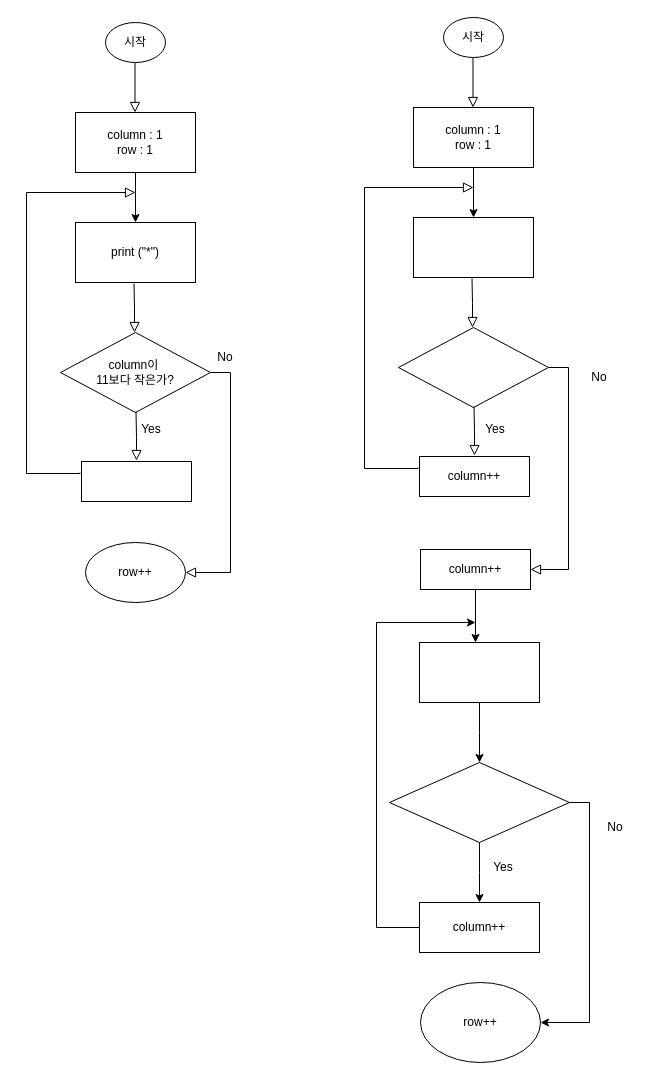
This 663x1080 diagram has some shape labels left out. The box of each missing label's shape, as (x1, y1, x2, y2) in pixels:
column ++: (80, 460, 192, 502)
column이 4보다 작은가 ?: (398, 326, 548, 408)
column이 7보다 작은가?: (388, 762, 570, 842)
print(" "): (412, 216, 534, 278)
print("| |"): (418, 642, 540, 702)
